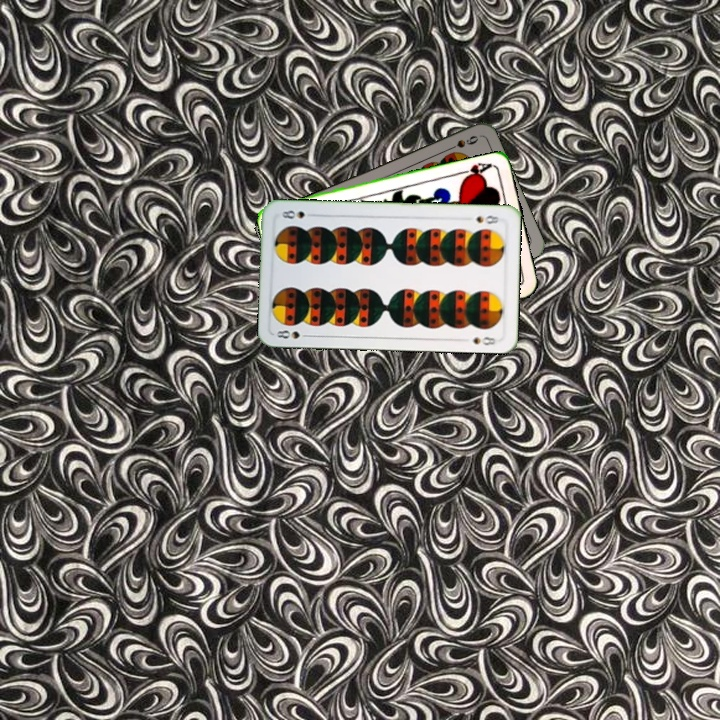HA: (455, 159, 495, 183)
S8: (273, 326, 313, 341), (472, 211, 501, 227)
S9: (442, 131, 481, 154)
